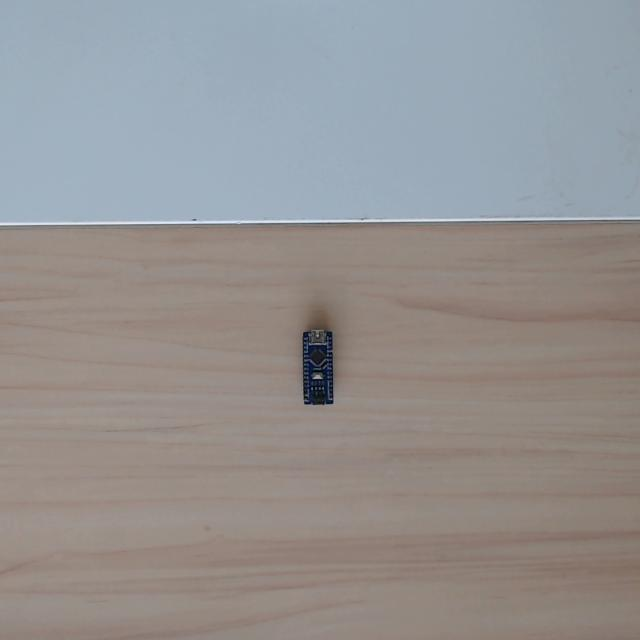Arduino-Nano: (300, 329, 336, 408)
